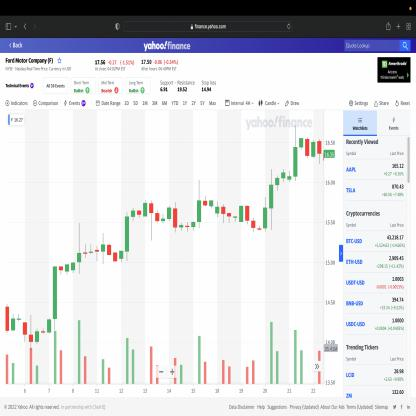Bullish: Morning Star Doji: (251, 194, 268, 236)
